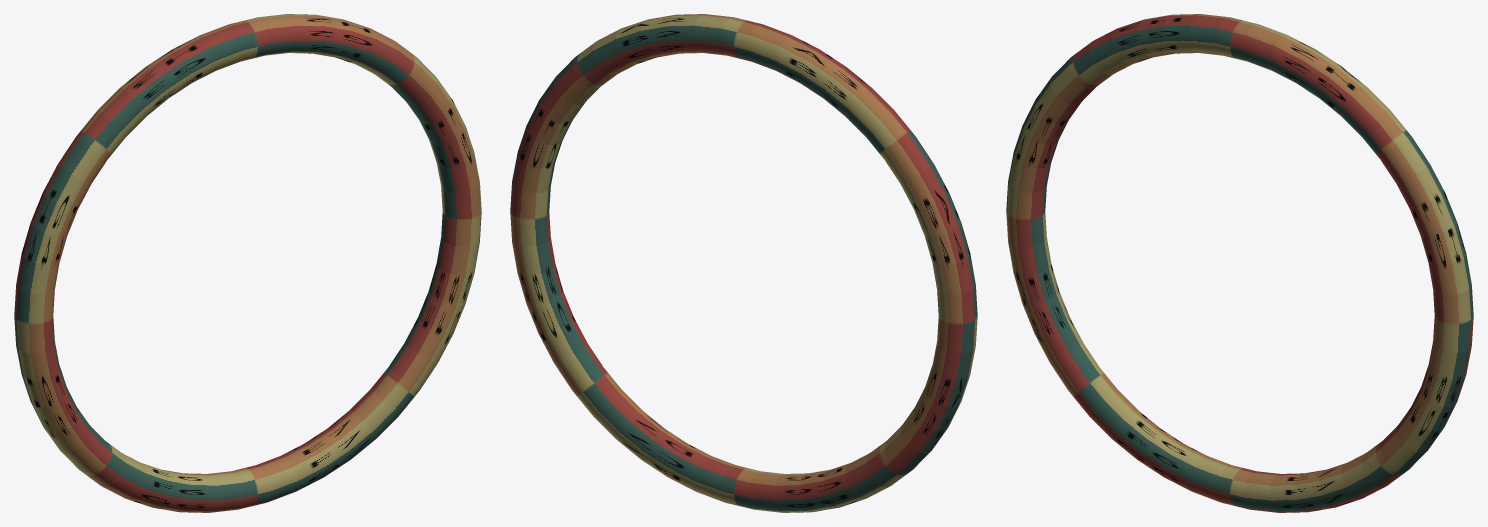
Rendered from texture_torus_R23_r0.glb.
The picture shows the model from 3 angles, left to right: view 1: azimuth 30°, elevation 25°; view 2: azimuth 150°, elevation 25°; view 3: azimuth 330°, elevation 25°; orthographic projection.
Visible parts, largest first — view 1: world; view 2: world; view 3: world.
Boxes of the visible parts, box(x1,y1,x2,y2) form: world: box(14, 14, 481, 512); world: box(510, 14, 977, 512); world: box(1006, 14, 1473, 512).
Size of the model in its own units: 27.33 by 27.28 by 2.
1 material, 1 textured.
